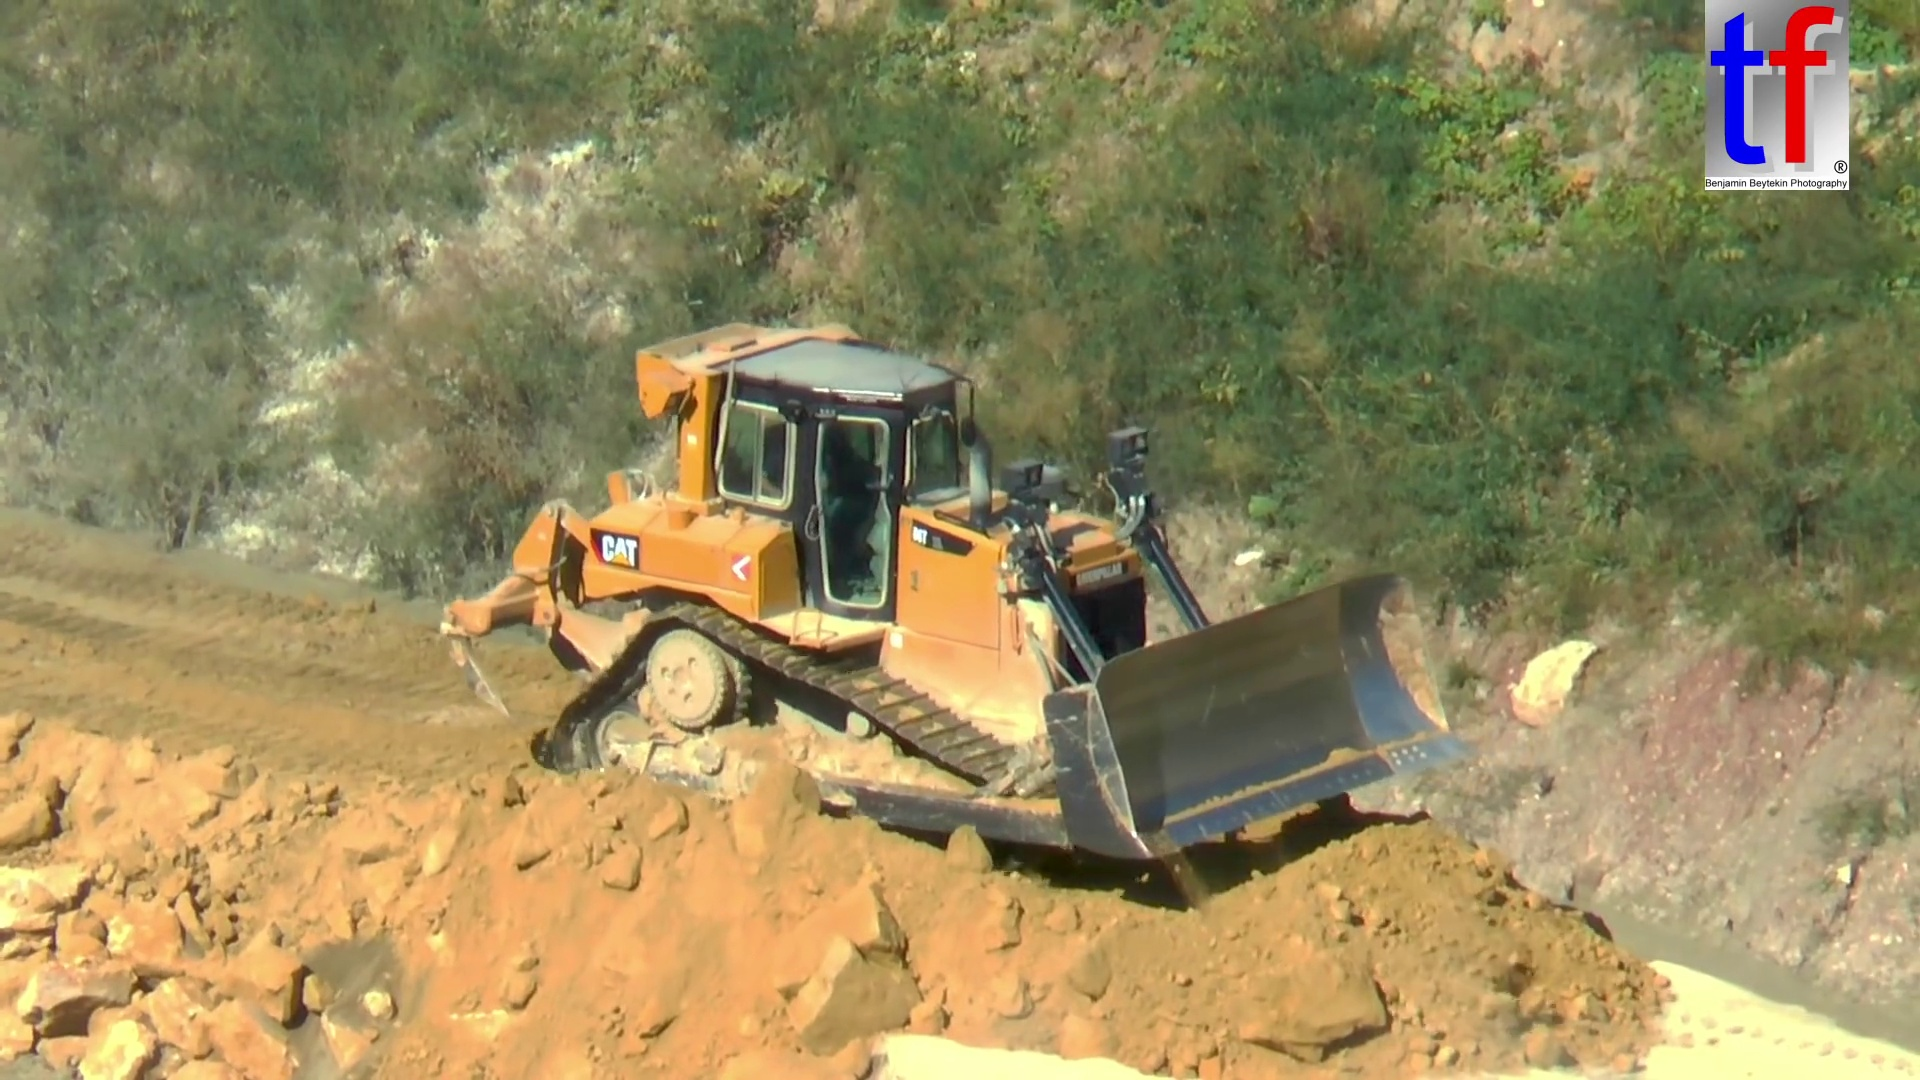bulldozer: (448, 318, 1473, 920)
